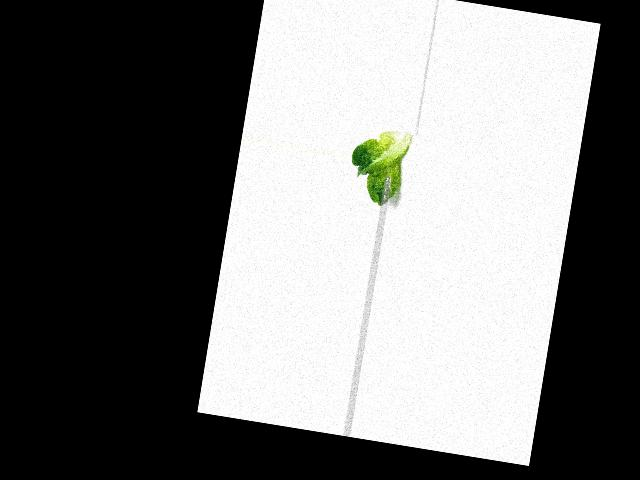lettuce: (344, 121, 409, 210)
